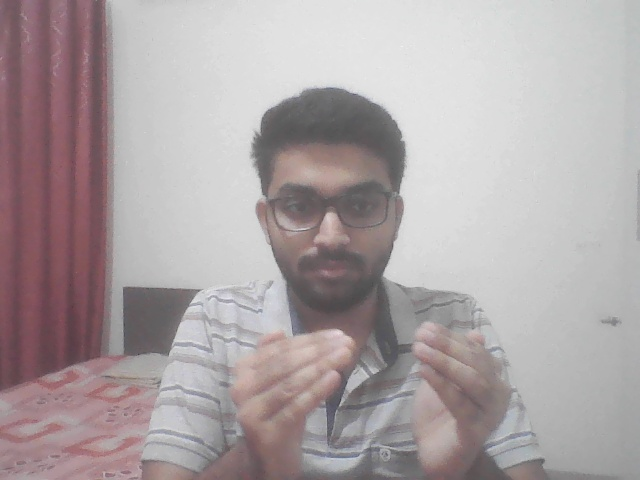small: (221, 311, 521, 475)
